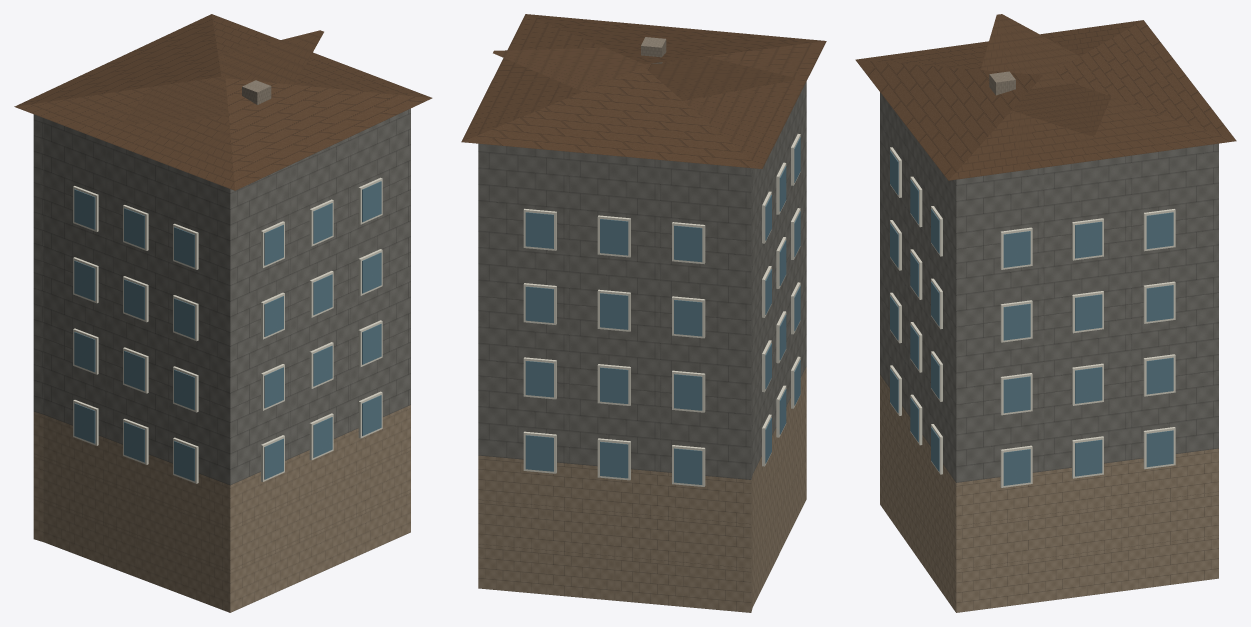
Rendered from core_0121.gltf.
3 views of the same model, side by side, from view 1: azimuth 30°, elevation 25°; view 2: azimuth 150°, elevation 25°; view 3: azimuth 270°, elevation 25° (orthographic). The views are drawn at different scales.
Visible parts, largest first — view 1: core_0121; view 2: core_0121; view 3: core_0121.
Part boxes in pixels (x1=…): core_0121: x1=14, y1=14, x2=432, y2=612; core_0121: x1=461, y1=14, x2=826, y2=612; core_0121: x1=855, y1=14, x2=1236, y2=612.
Bounding box in the file's own units: 13.51 × 18.45 × 13.56.
6 materials, 6 textured.
